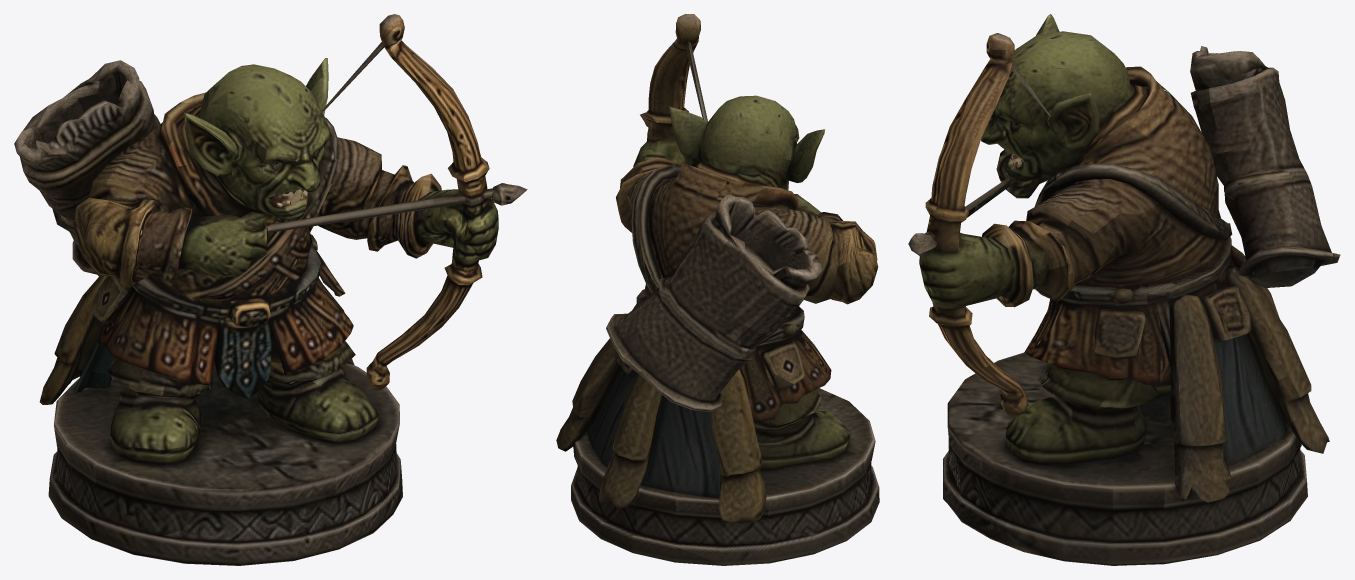
Rendered from orc_archer.glb.
3 views of the same model, side by side, from view 1: azimuth 30°, elevation 25°; view 2: azimuth 150°, elevation 25°; view 3: azimuth 270°, elevation 25° (orthographic). The views are drawn at different scales.
Parts seen in each view (by area): view 1: mesh_node; view 2: mesh_node; view 3: mesh_node.
Part boxes in pixels (box(x1,y1,x2,y2)): mesh_node: box(14, 14, 527, 565); mesh_node: box(556, 14, 879, 565); mesh_node: box(908, 14, 1340, 565).
Bounding box in the file's own units: 0.7598 × 1 × 0.7754.
1 material, 1 textured.
